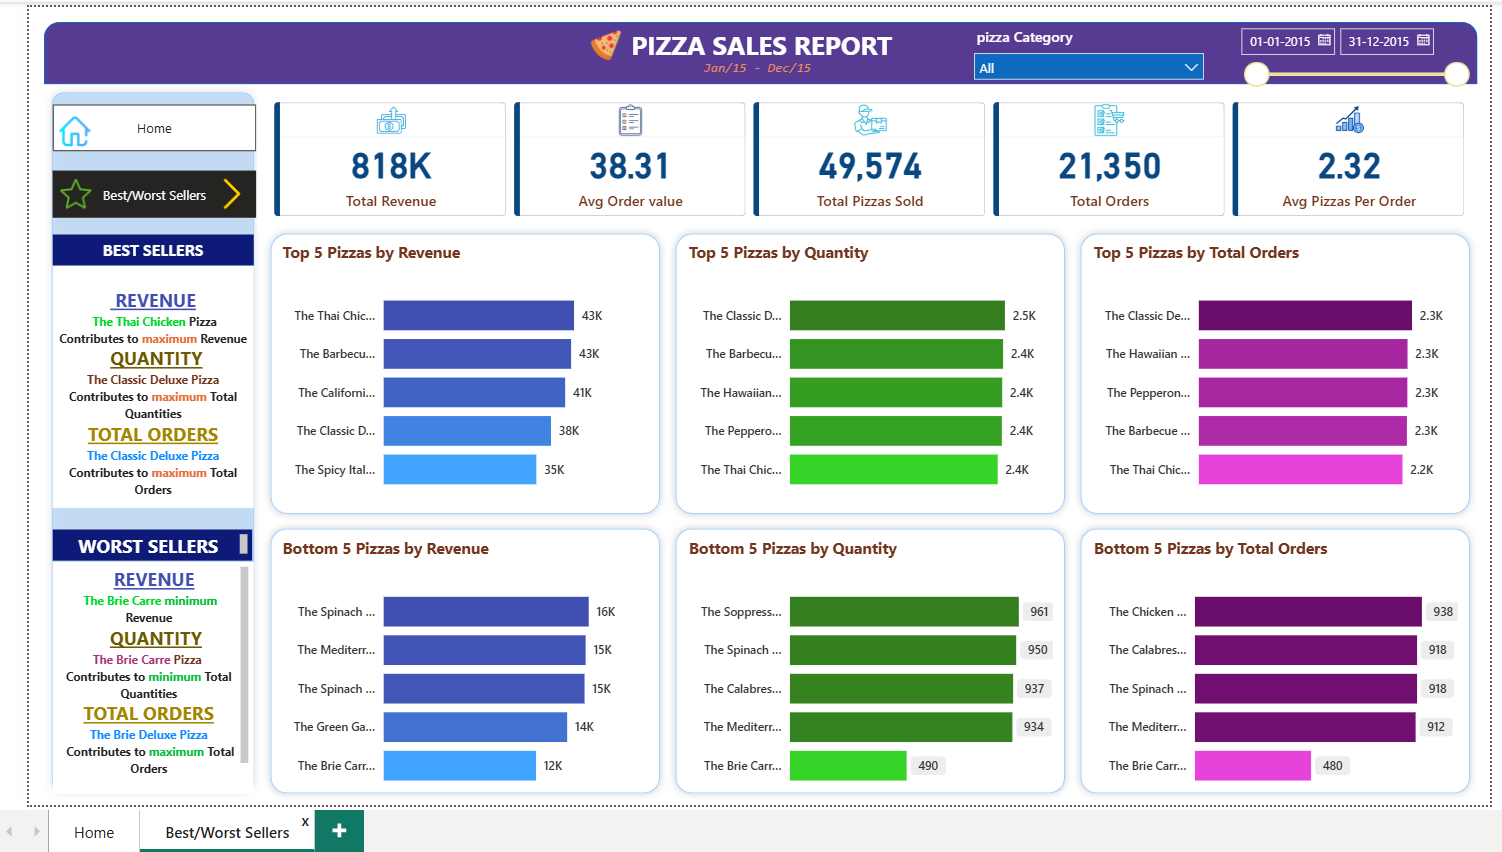

What the dashboard file says about the page in this screenshot:
{"tool":"powerbi","page":{"name":"Best/Worst Sellers","canvas":[1500,820],"ordinal":1},"visuals":[{"type":"shape","box":[16,80,224,736],"z":0},{"type":"cardVisual","fields":{"Data":["pizza_sales_data.Total Revenue","pizza_sales_data.Avg Order value","pizza_sales_data.Total Pizzas Sold","pizza_sales_data.Total Orders","pizza_sales_data.Avg Pizzas Per Order"]},"box":[235,81,1260,151],"z":1000},{"type":"shape","box":[16,16,1472,64],"z":2000},{"type":"textbox","box":[608,16,288,48],"z":3000},{"type":"textbox","box":[688,48,160,32],"z":4000},{"type":"image","box":[576,16,32,48],"z":5000},{"type":"shape","box":[240,224,416,304],"z":6000},{"type":"textbox","box":[25,234,206,32],"z":7000},{"type":"textbox","box":[25,266,206,249],"z":8000},{"type":"textbox","box":[25,537,205,32],"z":9000},{"type":"textbox","box":[25,570,206,238],"z":10000},{"type":"slicer","fields":{"Values":["pizza_sales_data.pizza_category"]},"box":[960,16,256,64],"z":11000},{"type":"slicer","fields":{"Values":["pizza_sales_data.order_date"]},"box":[1232,11,255,80],"z":12000},{"type":"shape","box":[656,224,416,304],"z":13000},{"type":"shape","box":[1072,224,416,304],"z":14000},{"type":"shape","box":[1072,528,416,288],"z":15000},{"type":"shape","box":[656,528,416,288],"z":16000},{"type":"shape","box":[240,528,416,288],"z":17000},{"type":"barChart","title":"Top 5 Pizzas by Revenue","fields":{"Category":["pizza_sales_data.pizza_name"],"Y":["pizza_sales_data.Total Revenue"]},"box":[256,240,384,272],"z":18000},{"type":"barChart","title":"Bottom 5 Pizzas by Revenue","fields":{"Category":["pizza_sales_data.pizza_name"],"Y":["pizza_sales_data.Total Revenue"]},"box":[256,544,384,272],"z":19000},{"type":"barChart","title":"Top 5 Pizzas by Quantity","fields":{"Category":["pizza_sales_data.pizza_name"],"Y":["pizza_sales_data.Total Pizzas Sold"]},"box":[672,240,384,272],"z":20000},{"type":"barChart","title":"Bottom 5 Pizzas by Quantity","fields":{"Category":["pizza_sales_data.pizza_name"],"Y":["pizza_sales_data.Total Pizzas Sold"]},"box":[672,544,384,272],"z":21000},{"type":"barChart","title":"Top 5 Pizzas by Total Orders","fields":{"Category":["pizza_sales_data.pizza_name"],"Y":["pizza_sales_data.Total Orders"]},"box":[1088,240,400,272],"z":22000},{"type":"barChart","title":"Bottom 5 Pizzas by Total Orders","fields":{"Category":["pizza_sales_data.pizza_name"],"Y":["pizza_sales_data.Total Orders"]},"box":[1088,544,384,272],"z":23000},{"type":"pageNavigator","box":[25,168,209,48],"z":24000},{"type":"pageNavigator","box":[25,100,209,48],"z":25000},{"type":"image","box":[192,176,32,32],"z":26000},{"type":"image","box":[23,112,48,32],"z":27000},{"type":"image","box":[32,176,32,32],"z":28000}]}

Visuals, with their boxes on the page's 1500x820 design canvas (x1, y1, x2, y2). These are canvas units, not pixel positions in the 1502x852 screenshot, which may show the page scaled, cropped or inside an application window:
shape: (left=16, top=80, right=240, bottom=816)
cardVisual - pizza_sales_data.Total Revenue x pizza_sales_data.Avg Order value: (left=235, top=81, right=1495, bottom=232)
shape: (left=16, top=16, right=1488, bottom=80)
textbox: (left=608, top=16, right=896, bottom=64)
textbox: (left=688, top=48, right=848, bottom=80)
image: (left=576, top=16, right=608, bottom=64)
shape: (left=240, top=224, right=656, bottom=528)
textbox: (left=25, top=234, right=231, bottom=266)
textbox: (left=25, top=266, right=231, bottom=515)
textbox: (left=25, top=537, right=230, bottom=569)
textbox: (left=25, top=570, right=231, bottom=808)
slicer - pizza_sales_data.pizza_category: (left=960, top=16, right=1216, bottom=80)
slicer - pizza_sales_data.order_date: (left=1232, top=11, right=1487, bottom=91)
shape: (left=656, top=224, right=1072, bottom=528)
shape: (left=1072, top=224, right=1488, bottom=528)
shape: (left=1072, top=528, right=1488, bottom=816)
shape: (left=656, top=528, right=1072, bottom=816)
shape: (left=240, top=528, right=656, bottom=816)
"Top 5 Pizzas by Revenue" barChart: (left=256, top=240, right=640, bottom=512)
"Bottom 5 Pizzas by Revenue" barChart: (left=256, top=544, right=640, bottom=816)
"Top 5 Pizzas by Quantity" barChart: (left=672, top=240, right=1056, bottom=512)
"Bottom 5 Pizzas by Quantity" barChart: (left=672, top=544, right=1056, bottom=816)
"Top 5 Pizzas by Total Orders" barChart: (left=1088, top=240, right=1488, bottom=512)
"Bottom 5 Pizzas by Total Orders" barChart: (left=1088, top=544, right=1472, bottom=816)
pageNavigator: (left=25, top=168, right=234, bottom=216)
pageNavigator: (left=25, top=100, right=234, bottom=148)
image: (left=192, top=176, right=224, bottom=208)
image: (left=23, top=112, right=71, bottom=144)
image: (left=32, top=176, right=64, bottom=208)
